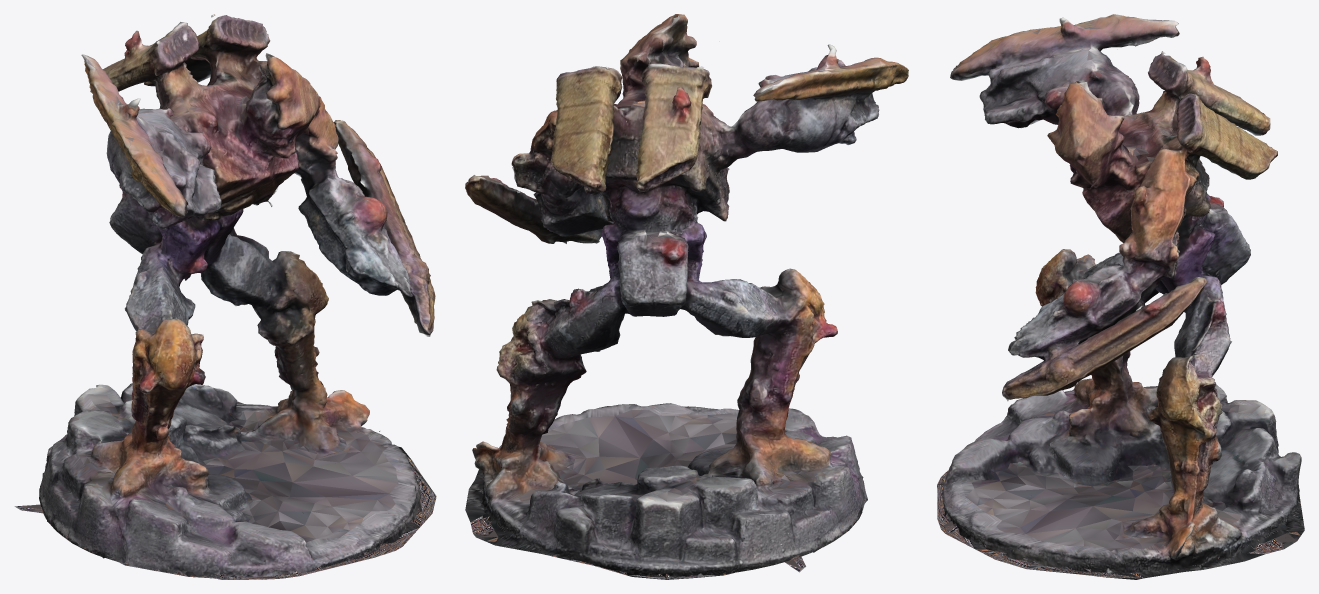
The model's file is Prism.glb.
The picture shows the model from 3 angles, left to right: view 1: azimuth 30°, elevation 25°; view 2: azimuth 150°, elevation 25°; view 3: azimuth 270°, elevation 25°; orthographic projection. The views are drawn at different scales.
Visible parts, largest first — view 1: hive; view 2: hive; view 3: hive.
Part boxes in pixels (x1=…): hive: x1=14, y1=14, x2=436, y2=579; hive: x1=465, y1=14, x2=908, y2=579; hive: x1=937, y1=14, x2=1304, y2=579.
Size of the model in its own units: 5.64 by 7.05 by 5.47.
1 material, 1 textured.
